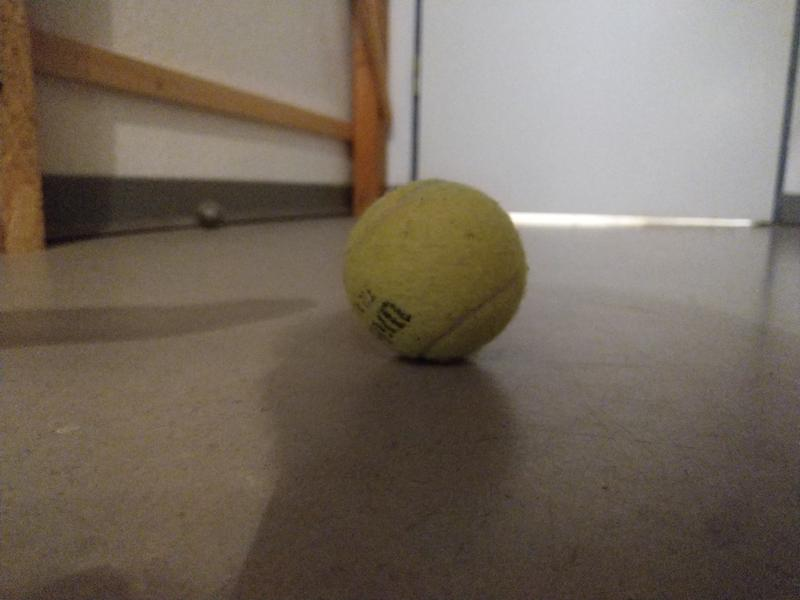Tennisball: (337, 175, 534, 367)
